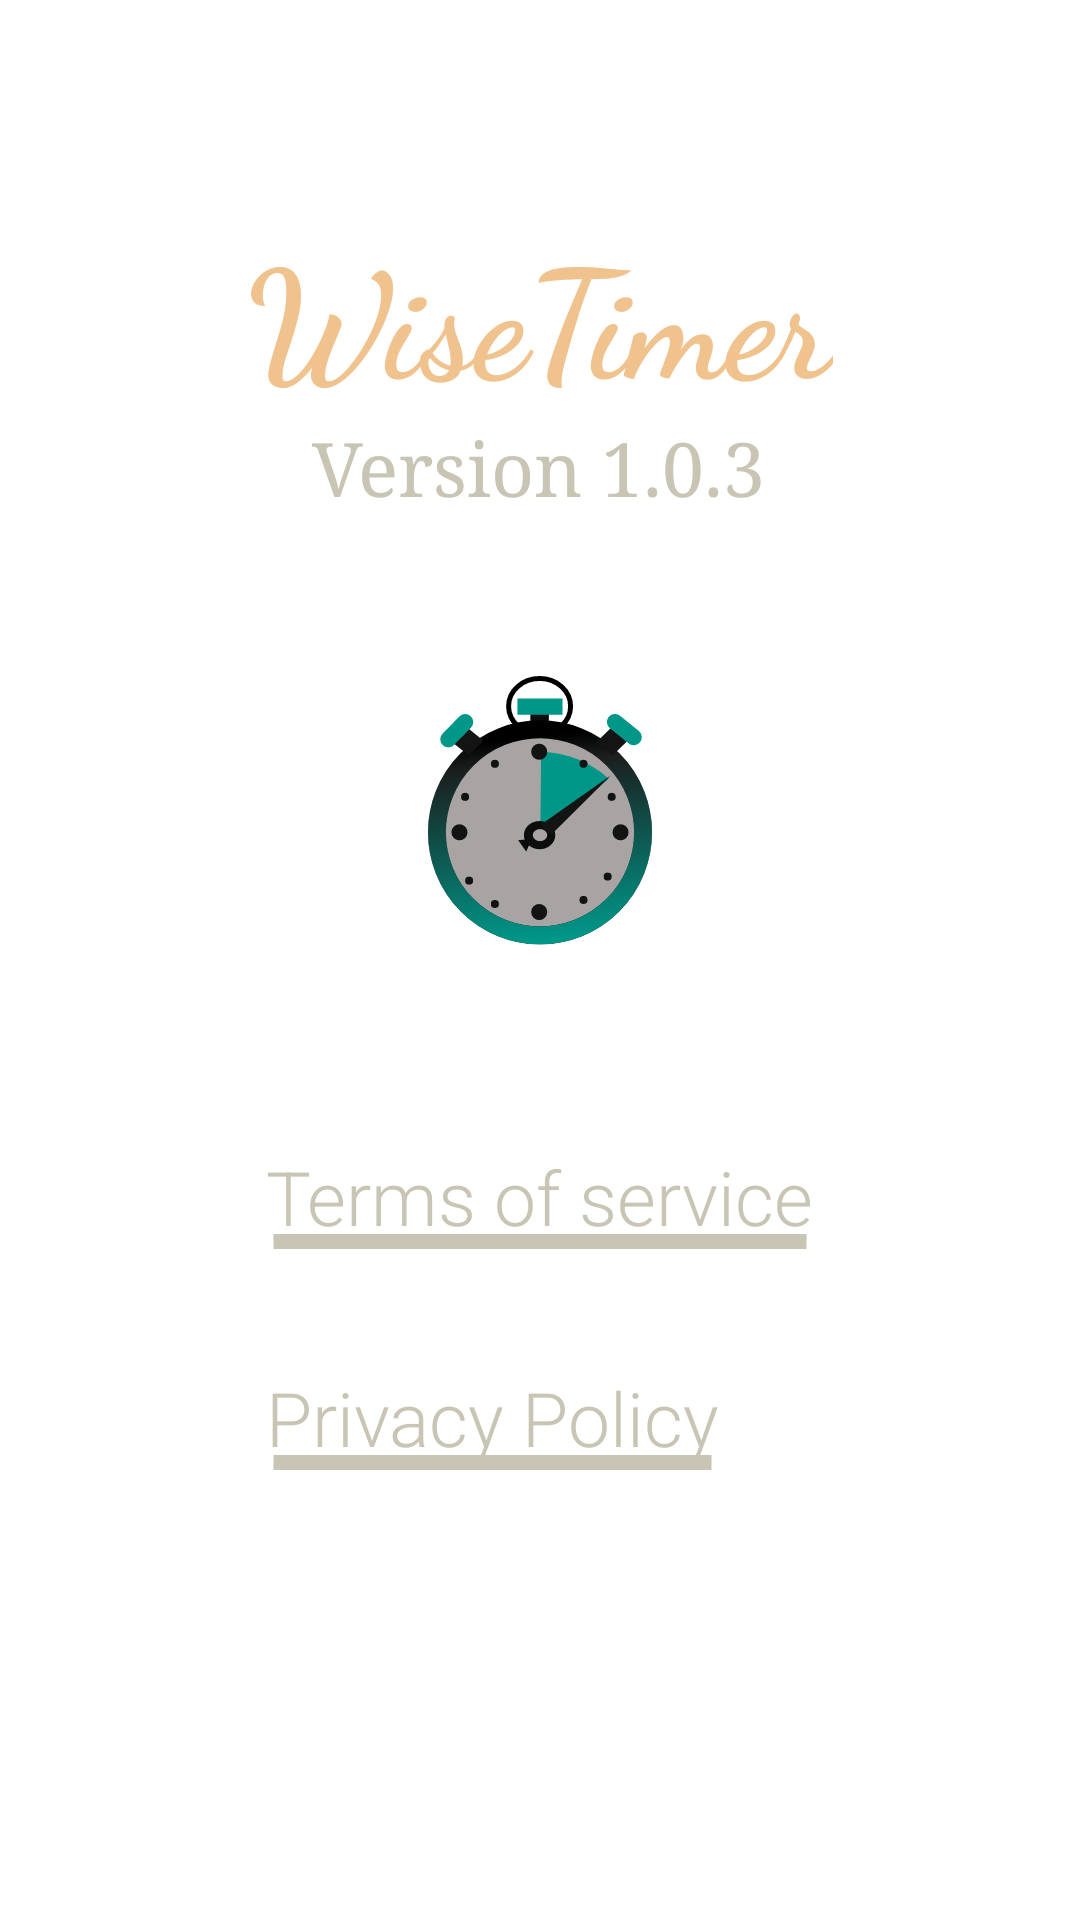

Icons on this 1080px×1920px Android screen, each with the point to tap as [x,y]:
WiseTimer icon: [540,810]
